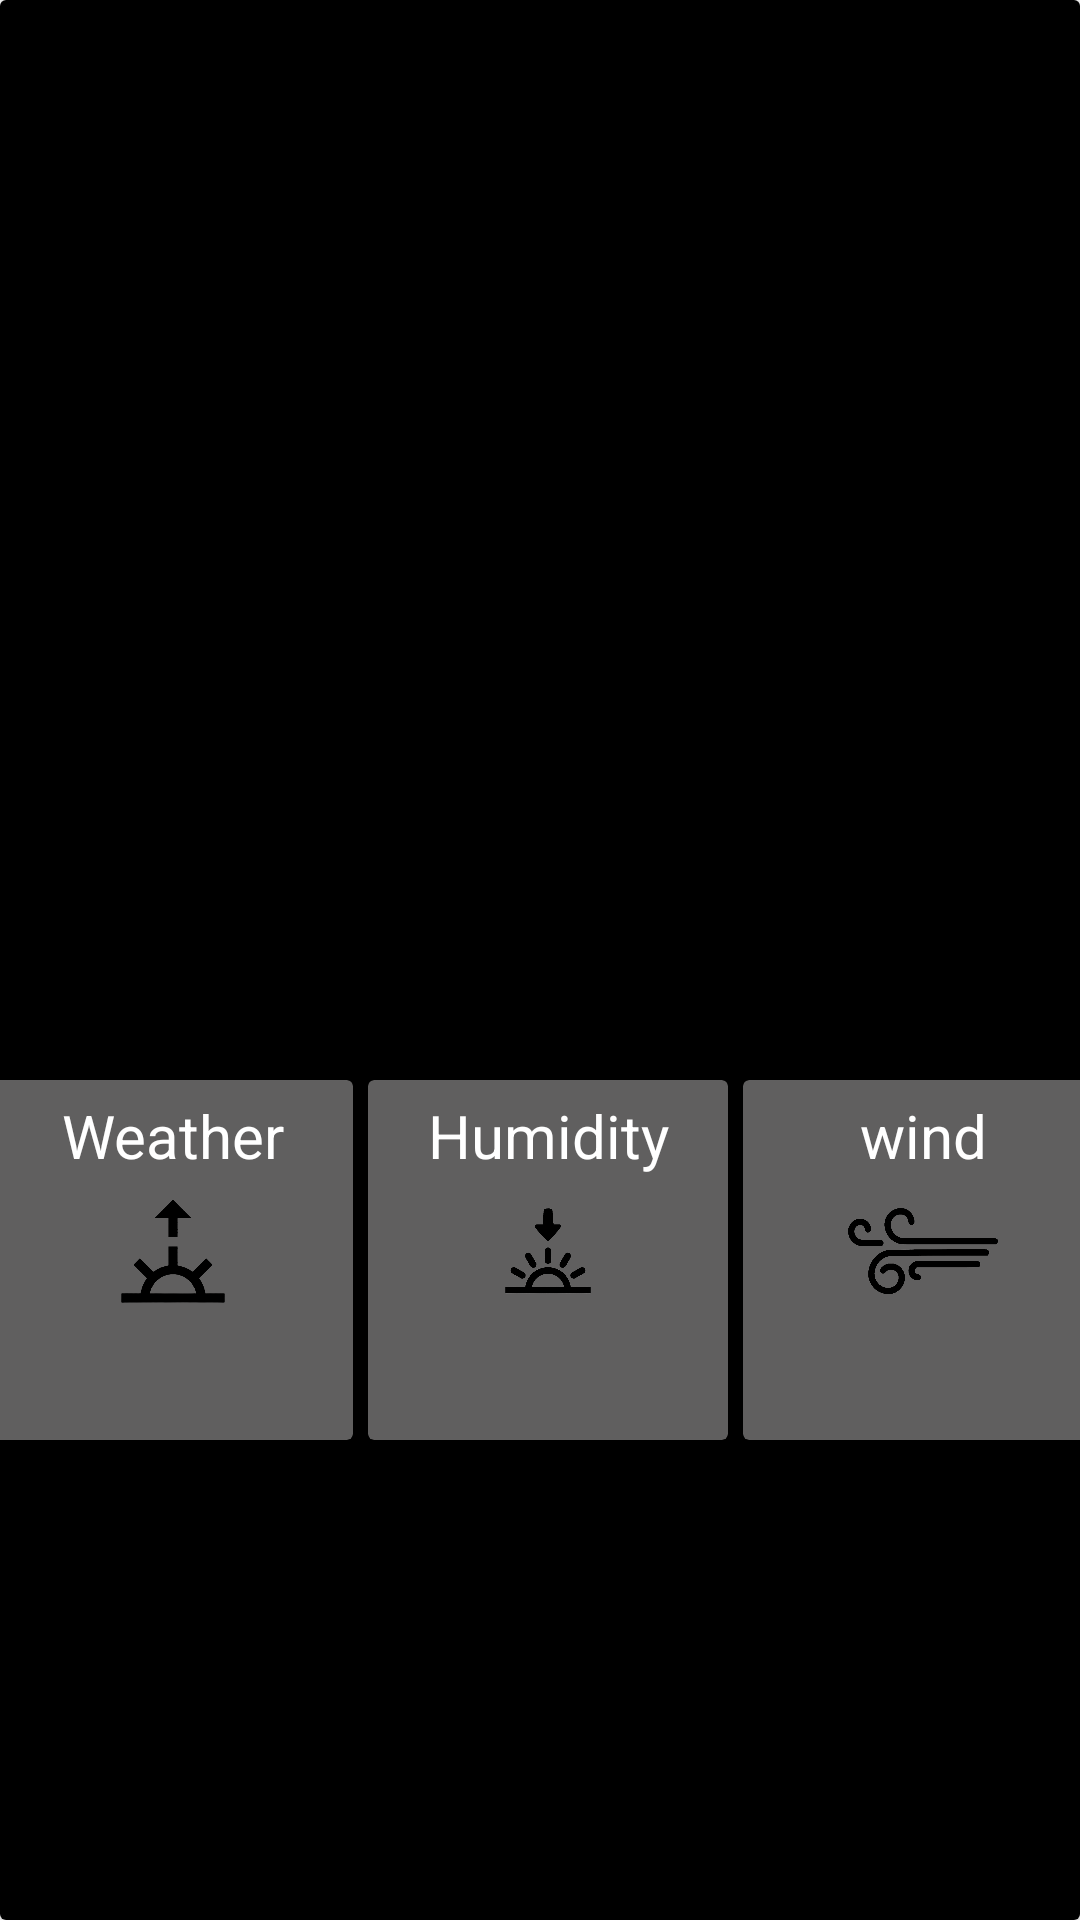

Locate icon controls on the screen. Image size 1080×1920, boxes as [x1=x1, y1=y1, x2=x2, y2=y2].
sunrise: [x1=121, y1=1200, x2=225, y2=1303]
sunset: [x1=505, y1=1208, x2=591, y2=1293]
